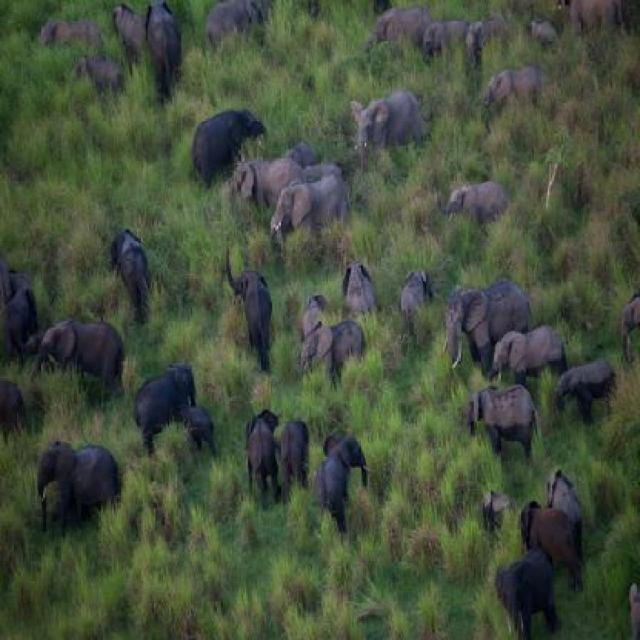elephant: (483, 558, 591, 640), (446, 268, 534, 364), (226, 238, 289, 367), (33, 431, 119, 520), (270, 172, 352, 248), (519, 489, 583, 586), (132, 355, 202, 442), (485, 318, 572, 385), (358, 72, 424, 160), (482, 52, 556, 128), (311, 439, 374, 526), (460, 383, 535, 455), (36, 327, 126, 382), (191, 95, 271, 152), (198, 0, 276, 57), (549, 0, 617, 63), (432, 172, 510, 226), (298, 321, 364, 382), (70, 41, 135, 101), (113, 225, 159, 309), (0, 254, 35, 363), (146, 0, 186, 94), (390, 251, 435, 332), (282, 135, 338, 194), (349, 3, 426, 43), (228, 163, 306, 202), (255, 398, 282, 508), (560, 358, 618, 407), (611, 276, 640, 372), (422, 14, 468, 71), (522, 15, 568, 67), (280, 404, 308, 488), (113, 0, 152, 60), (298, 273, 332, 336), (545, 459, 580, 518), (344, 251, 376, 312), (43, 13, 95, 45), (177, 402, 209, 453), (482, 479, 506, 546), (469, 9, 503, 54), (0, 366, 23, 425)
